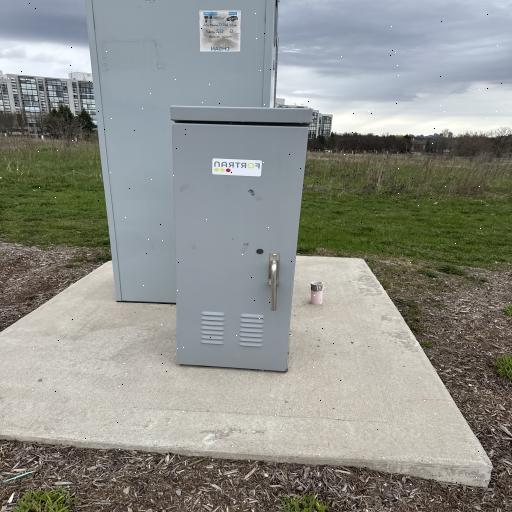Electrical Box: (90, 0, 280, 303), (167, 107, 317, 370)
